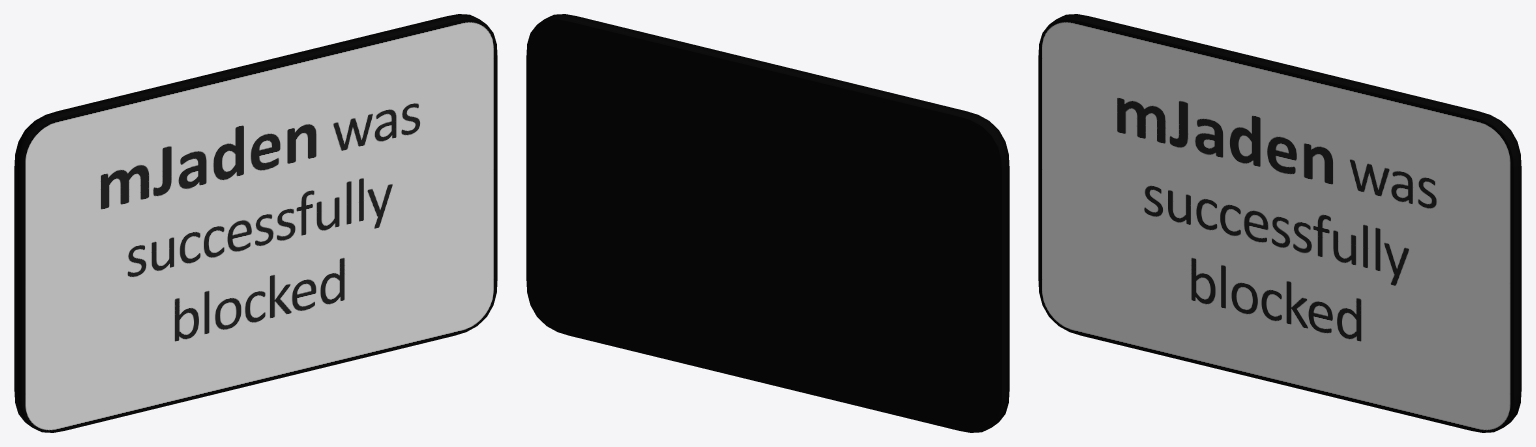
The model's file is Ep5_BlockNotification-B.fbx.
3 views of the same model, side by side, from view 1: azimuth 30°, elevation 25°; view 2: azimuth 150°, elevation 25°; view 3: azimuth 330°, elevation 25° (orthographic).
Visible parts, largest first — view 1: BlockNotifications-B; view 2: BlockNotifications-B; view 3: BlockNotifications-B.
Boxes of the visible parts, x1,y1,x2,y2 form: BlockNotifications-B: (14,14,497,432); BlockNotifications-B: (526,14,1009,432); BlockNotifications-B: (1038,14,1521,432).
Size of the model in its own units: 833 by 526 by 22.62.
